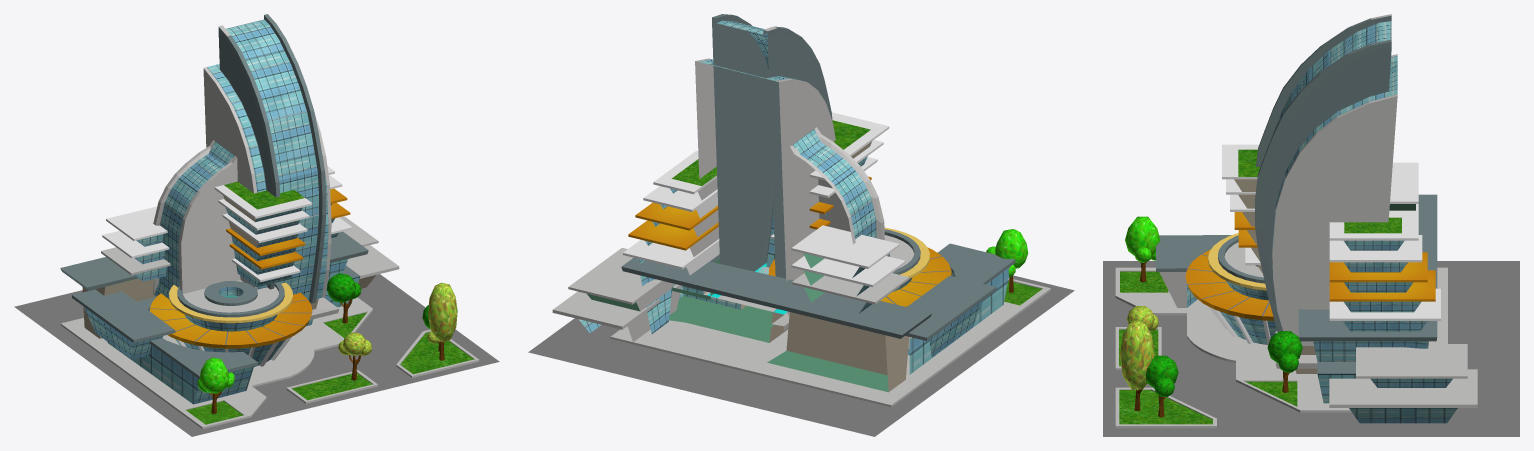
The model's file is Insurance_LV2.fbx.
3 views of the same model, side by side, from view 1: azimuth 30°, elevation 25°; view 2: azimuth 150°, elevation 25°; view 3: azimuth 270°, elevation 25° (orthographic). The views are drawn at different scales.
Parts seen in each view (by area): view 1: income level 2; view 2: income level 2; view 3: income level 2.
Boxes of the visible parts, box(x1,y1,x2,y2) form: income level 2: box(14, 14, 499, 436); income level 2: box(528, 14, 1074, 436); income level 2: box(1103, 14, 1519, 436).
Bounding box in the file's own units: 120 × 106 × 120.
